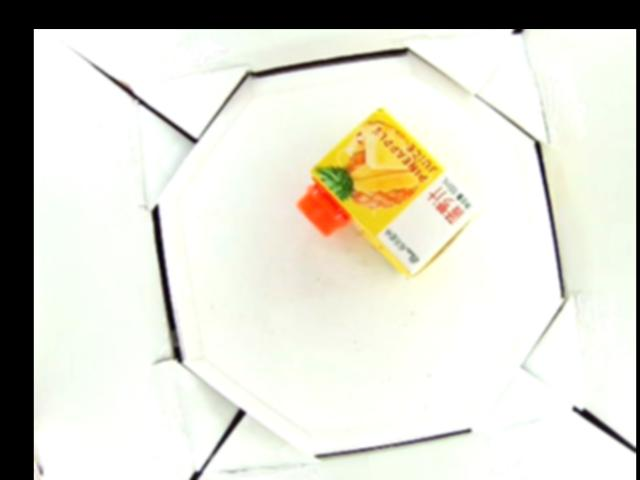Bottle: (293, 110, 478, 285)
